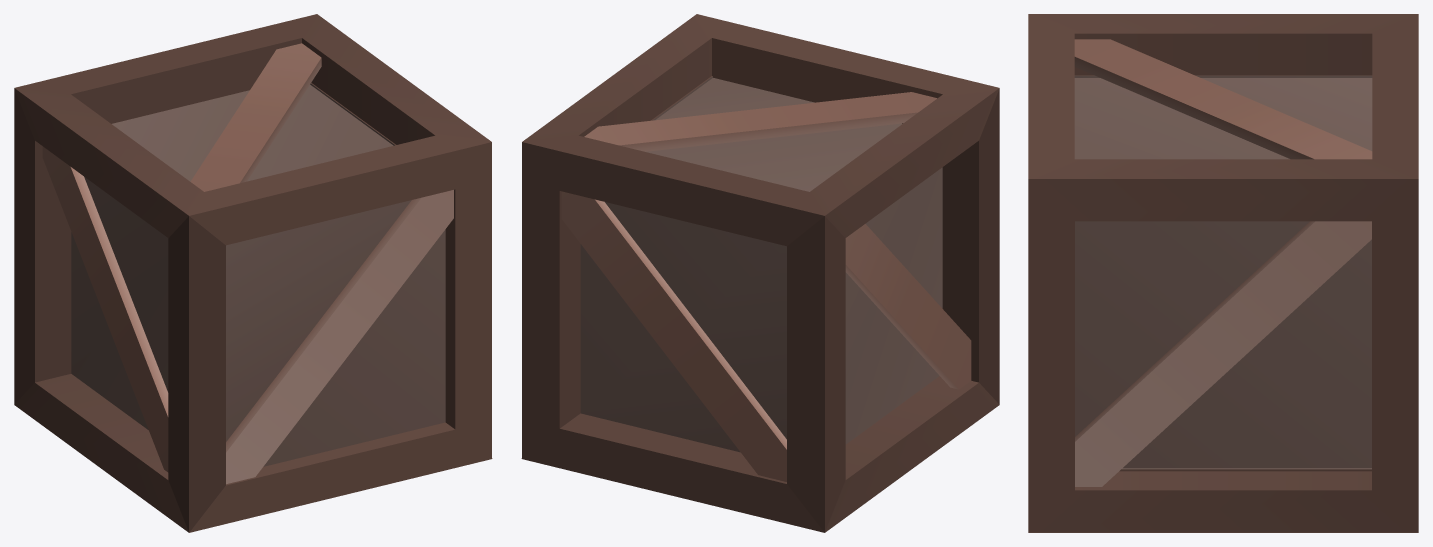
Rendered from CXMadeira_Misc_LoPo.fbx.
The picture shows the model from 3 angles, left to right: view 1: azimuth 30°, elevation 25°; view 2: azimuth 150°, elevation 25°; view 3: azimuth 270°, elevation 25°; orthographic projection. The views are drawn at different scales.
Visible parts, largest first — view 1: CXMadeira_Misc_LoPo; view 2: CXMadeira_Misc_LoPo; view 3: CXMadeira_Misc_LoPo.
Boxes of the visible parts, left/top/right/bottom form: CXMadeira_Misc_LoPo: left=14, top=14, right=492, bottom=532; CXMadeira_Misc_LoPo: left=521, top=14, right=999, bottom=532; CXMadeira_Misc_LoPo: left=1028, top=14, right=1418, bottom=532.
Bounding box in the file's own units: 200 × 200 × 200.
